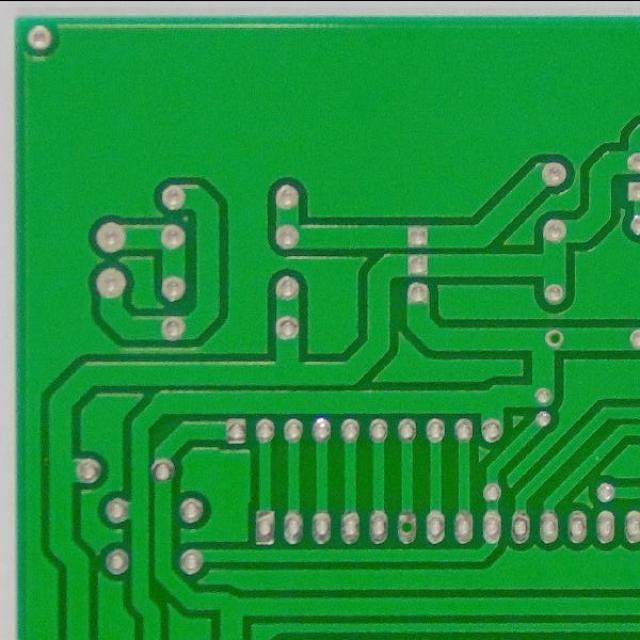Missing_Hole: (392, 511, 422, 545), (543, 327, 566, 350)
